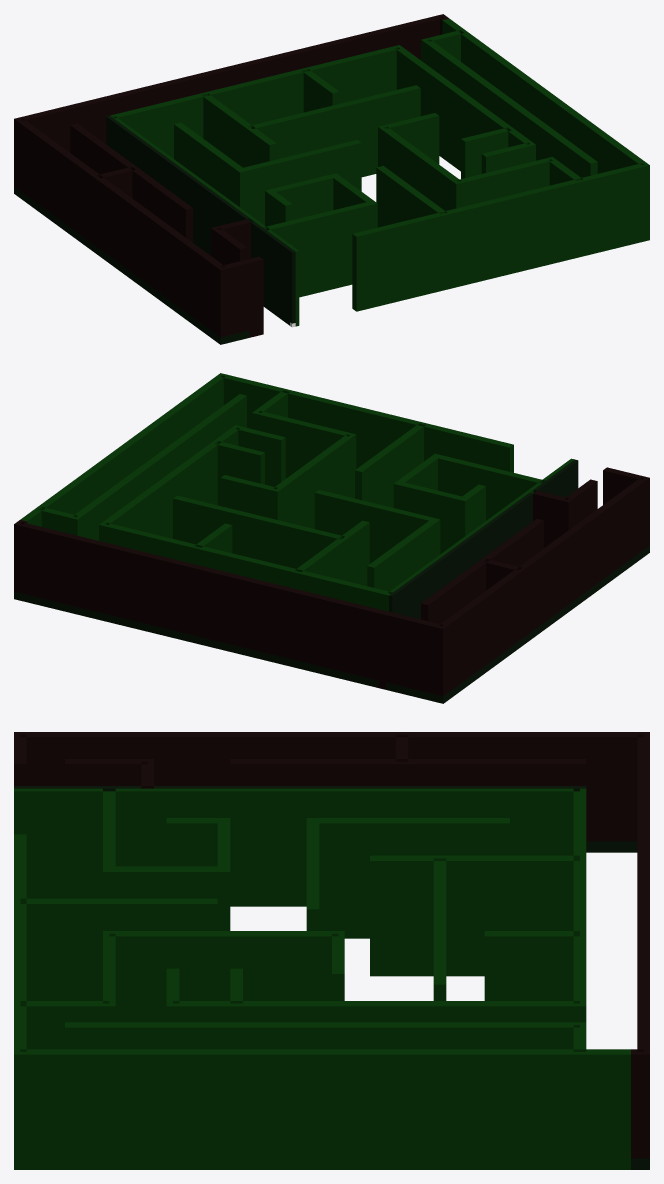
File: maze.obj
3 views of the same model, one above another, from view 1: azimuth 30°, elevation 25°; view 2: azimuth 150°, elevation 25°; view 3: azimuth 270°, elevation 25° (orthographic). The views are drawn at different scales.
Size of the model in its own units: 120 by 20 by 100.
Materials: 1 (1 with a texture image).
